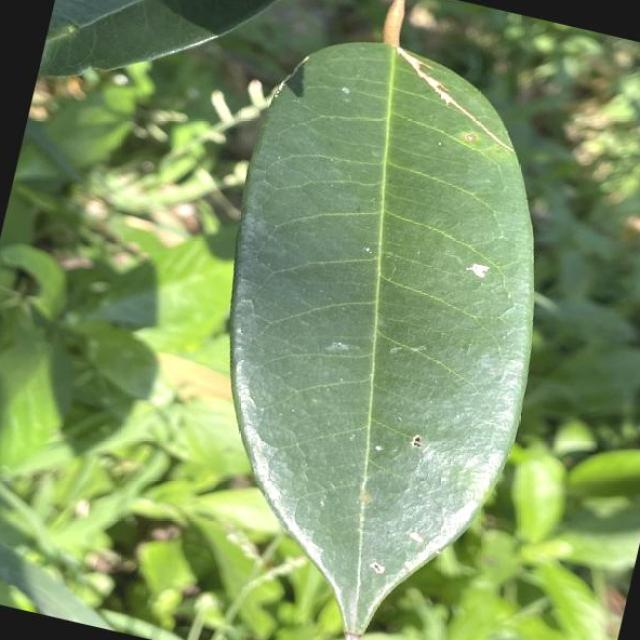No Disease: (130, 2, 606, 640)
